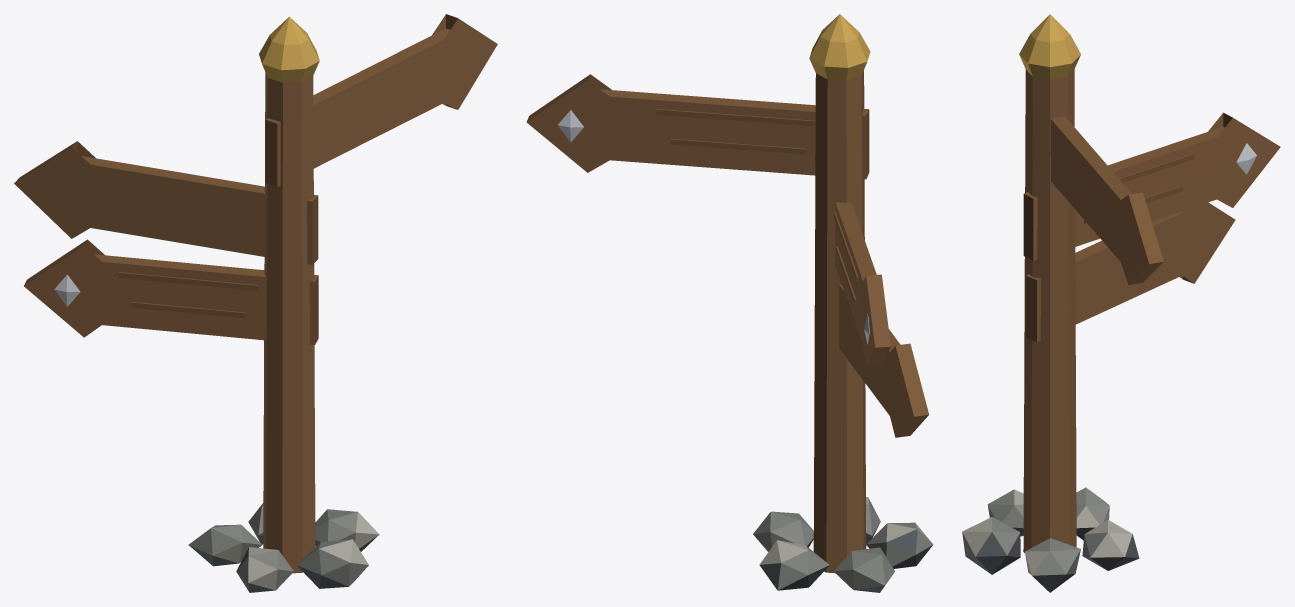
File: SignPost.obj
3 views of the same model, side by side, from view 1: azimuth 30°, elevation 25°; view 2: azimuth 150°, elevation 25°; view 3: azimuth 270°, elevation 25° (orthographic). The views are drawn at different scales.
Size of the model in its own units: 4.47 by 5.42 by 2.87.
